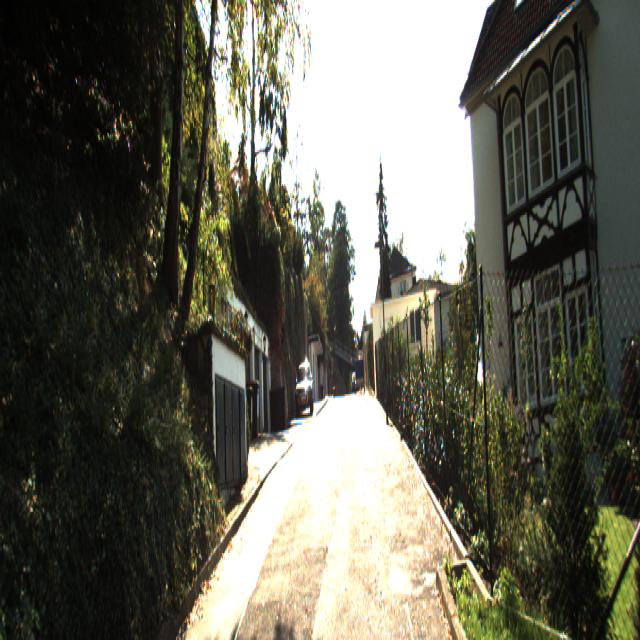Car: (297, 360, 313, 417)
DontCare: (350, 370, 358, 391)
